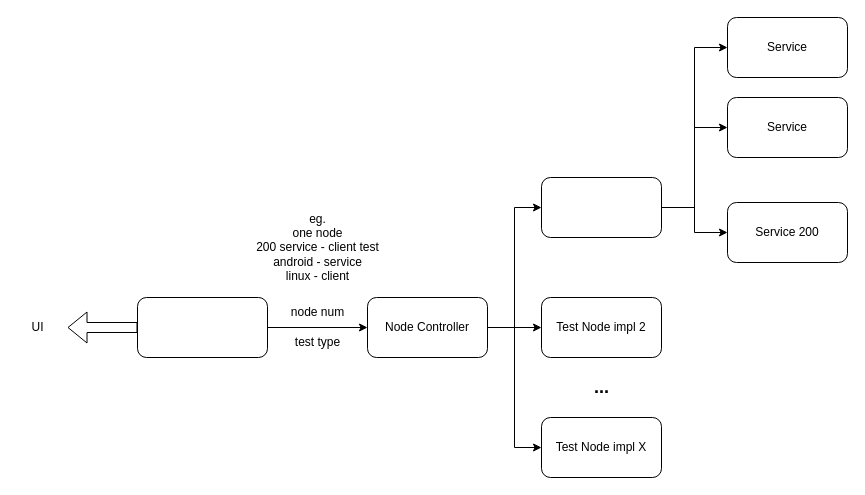
Image size: 865x495. Some labels were removed from this diagram. The centre of each missing label's shape, as x and y in pixels:
"Android JNI" goes at point (202, 327).
"Test Node impl 1" goes at point (601, 207).
